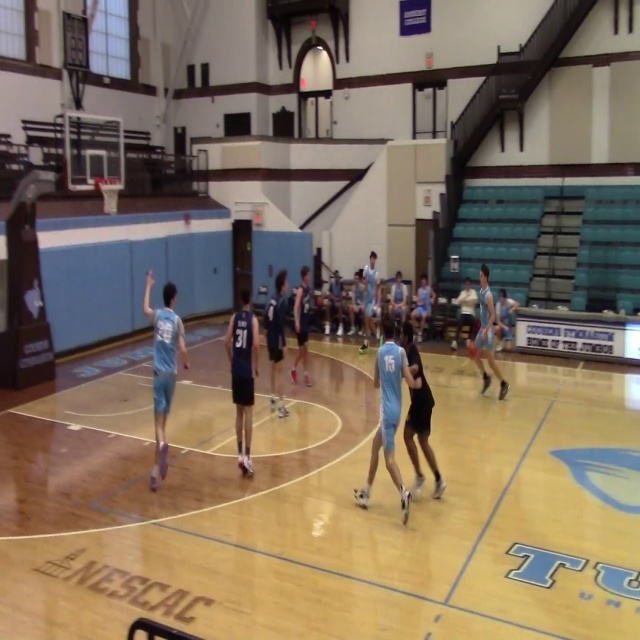Basketball: (467, 341, 479, 358)
